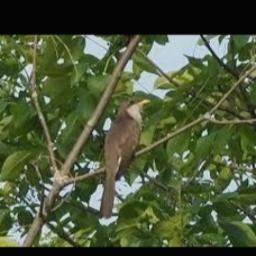Cuckoo: (99, 98, 152, 218)
